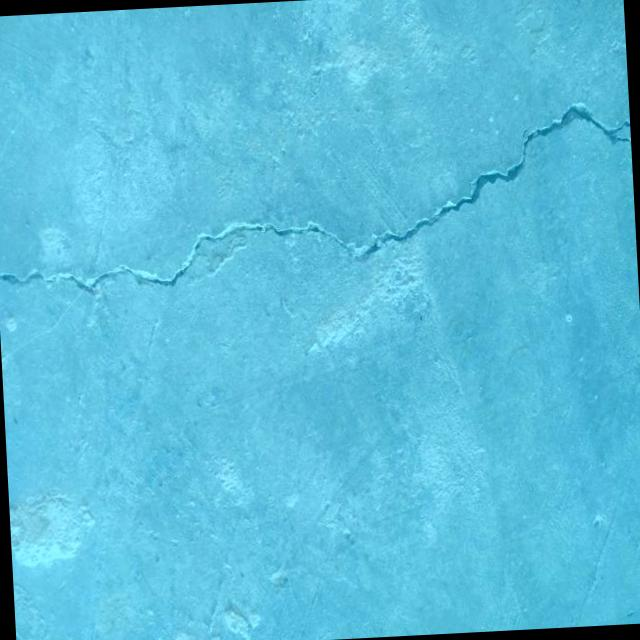crack: (346, 103, 636, 264), (0, 218, 355, 301)
